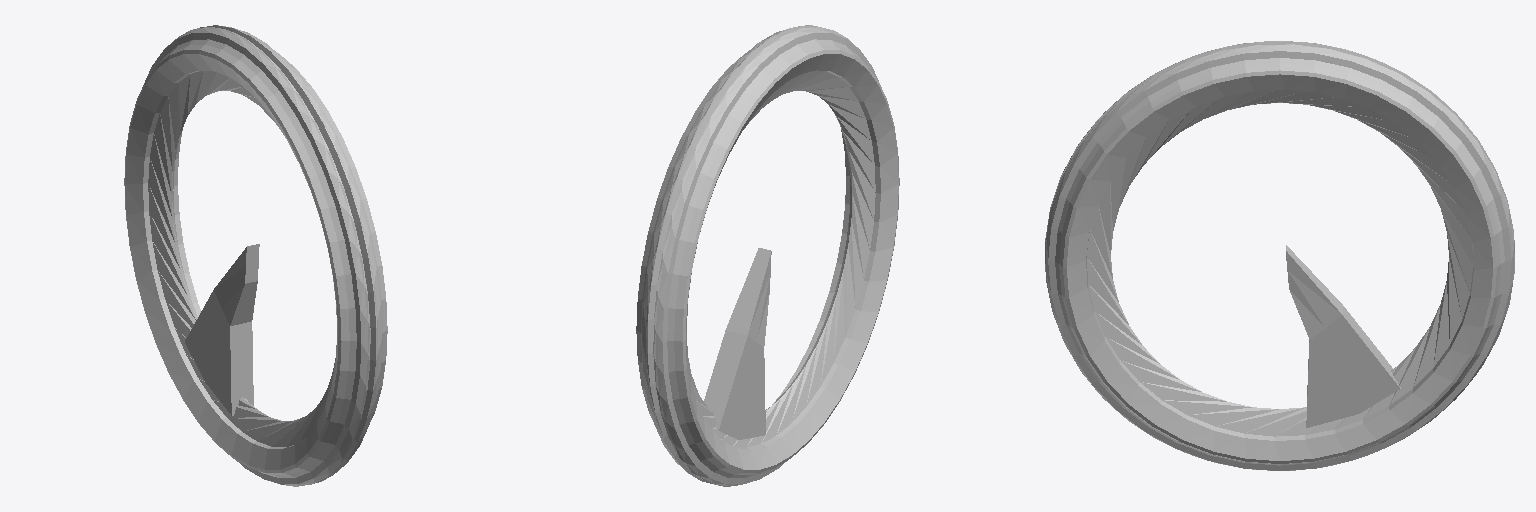
File: jin.obj
3 views of the same model, side by side, from view 1: azimuth 30°, elevation 25°; view 2: azimuth 150°, elevation 25°; view 3: azimuth 270°, elevation 25° (orthographic).
Parts seen in each view (by area): view 1: pCylinder3, pCube1; view 2: pCylinder3, pCube1; view 3: pCylinder3, pCube1.
Boxes of the visible parts, box(x1,y1,x2,y2) form: pCylinder3: box(124, 25, 387, 486); pCube1: box(185, 244, 259, 415); pCylinder3: box(636, 25, 899, 486); pCube1: box(704, 248, 771, 439); pCylinder3: box(1045, 41, 1514, 470); pCube1: box(1286, 245, 1400, 427).
Bounding box in the file's own units: 0.5529 × 4.64 × 4.64.